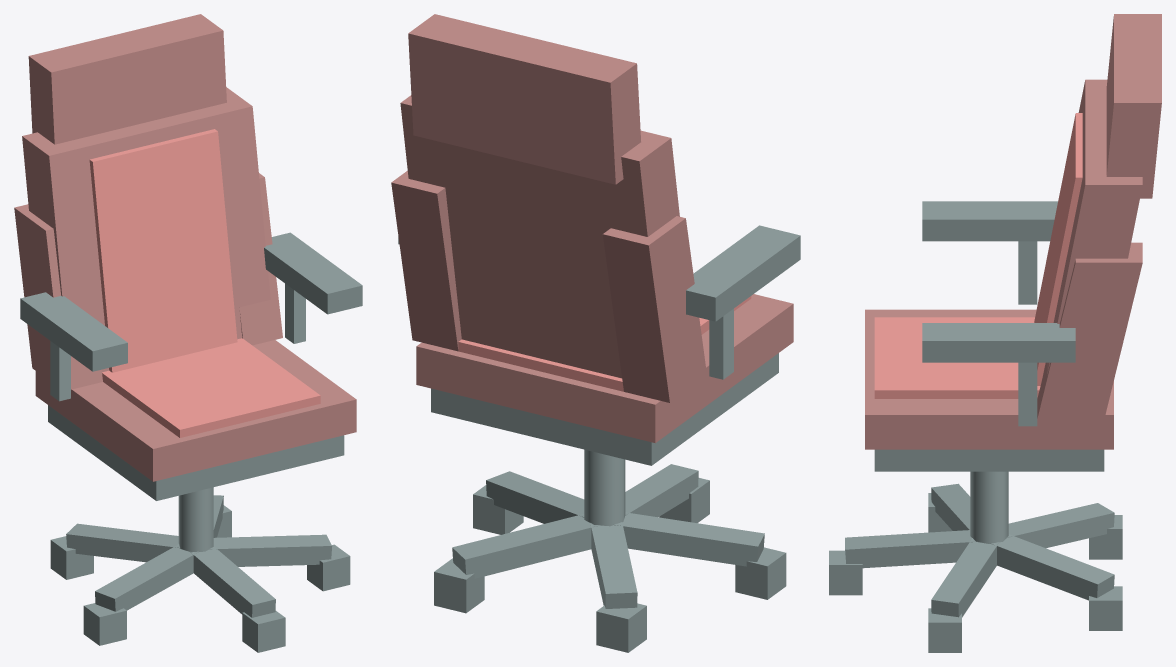
File: chairGaming.glb
3 views of the same model, side by side, from view 1: azimuth 30°, elevation 25°; view 2: azimuth 150°, elevation 25°; view 3: azimuth 270°, elevation 25° (orthographic). The views are drawn at different scales.
Parts seen in each view (by area): view 1: chairGaming; view 2: chairGaming; view 3: chairGaming.
Part boxes in pixels (x1=…): chairGaming: x1=14, y1=14, x2=362, y2=652; chairGaming: x1=391, y1=14, x2=800, y2=652; chairGaming: x1=829, y1=14, x2=1161, y2=652.
Bounding box in the file's own units: 0.345 × 0.61 × 0.3475.
